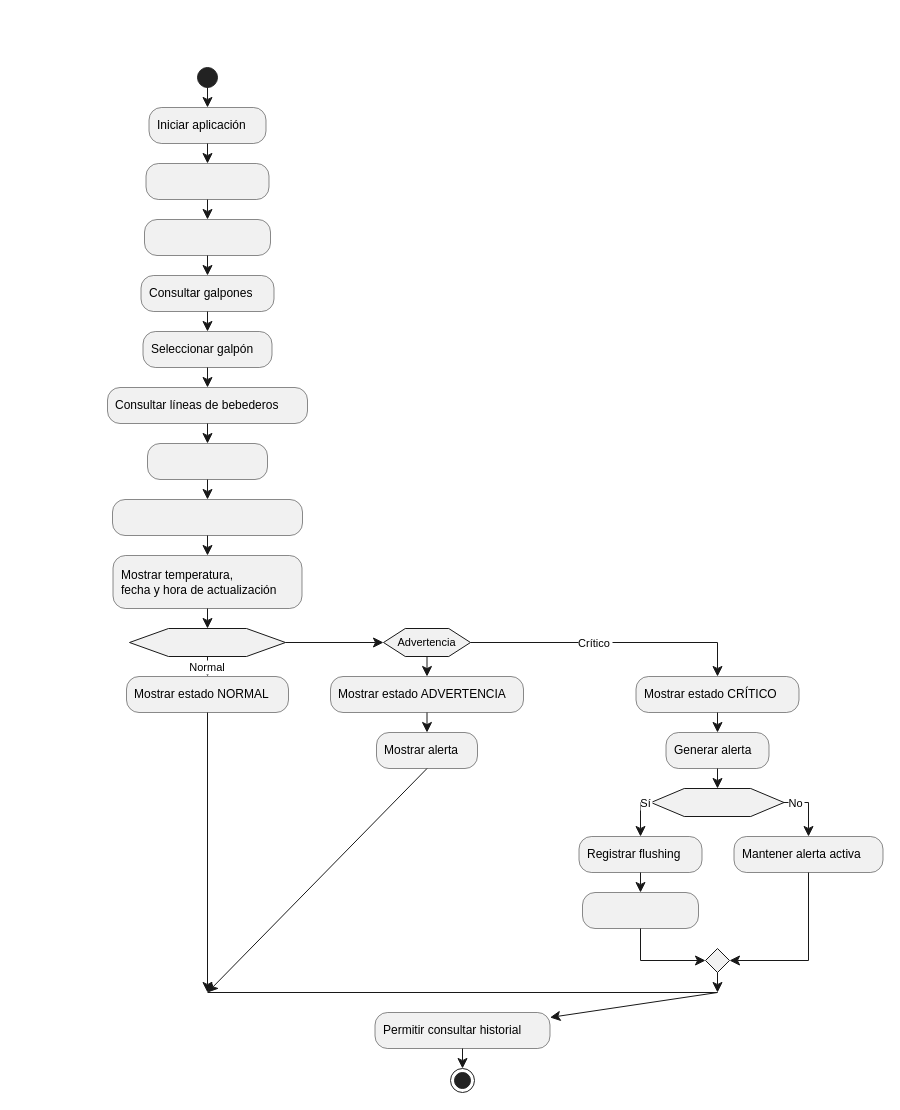
The diagram is 900 pixels wide and 1110 high, and some of its shapes have lost their labels. The box of each missing label's shape, as (x1, y1, x2, y2) in pixels:
Consultar granjas: (145, 163, 269, 199)
Consultar temperatura actual: (112, 499, 302, 535)
Guardar registro: (582, 892, 698, 928)
Seleccionar granja: (144, 219, 270, 255)
Seleccionar línea: (147, 443, 267, 479)
¿Estado de temperatura?: (128, 628, 286, 656)
¿Se realiza flushing?: (650, 788, 784, 816)
